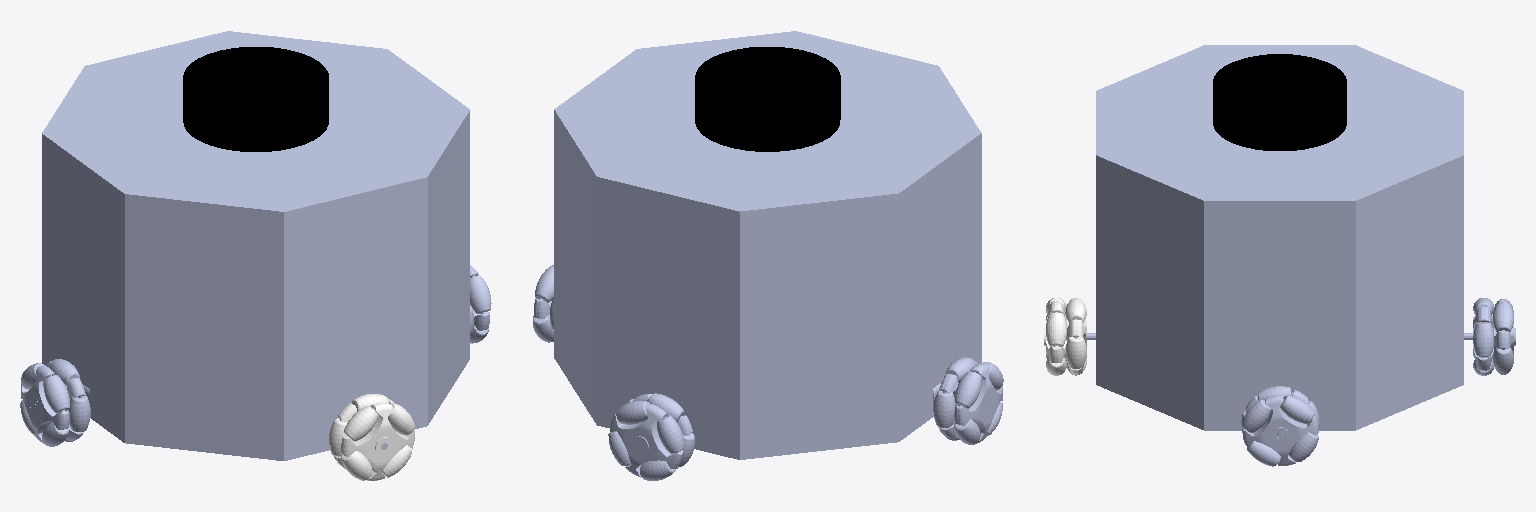
URDF robot description (RobotROS):
<?xml version="1.0" encoding="utf-8"?>
<!-- This URDF was automatically created by SolidWorks to URDF Exporter! Originally created by Stephen Brawner (brawner@gmail.com) 
     Commit Version: 1.6.0-4-g7f85cfe  Build Version: 1.6.7995.38578
     For more information, please see http://wiki.ros.org/sw_urdf_exporter -->
<robot
  name="RobotROS">

  <!-- Dummy root link -->
  <link name="base_footprint"/>

  <!-- Joint connecting base_footprint to base_link -->
  <joint name="base_footprint_joint" type="fixed">
    <parent link="base_footprint"/>
    <child link="base_link"/>
    <origin xyz="0 0 0.05" rpy="0 0 0"/>
  </joint>

  <link
    name="base_link">
    <inertial>
      <origin
        xyz="3.48309153209991E-06 3.60672325339095E-11 0.0280471670298833"
        rpy="0 0 0" />
      <mass
        value="0.380110289469191" />
      <inertia
        ixx="0.00128623683189621"
        ixy="-1.85011347063901E-13"
        ixz="-4.08987092760032E-12"
        iyy="0.00128623683211484"
        iyz="3.05496947183848E-13"
        izz="0.00218003078926772" />
    </inertial>
    <visual>
      <origin
        xyz="0 0 0"
        rpy="0 0 0" />
      <geometry>
        <mesh
          filename="package://robot_ros/meshes/base_link2.dae"  scale="1 1 1" />
      </geometry>
      <material
        name="">
        <color
          rgba="0.792156862745098 0.819607843137255 0.933333333333333 1" />
      </material>
    </visual>
    <collision>
      <origin
        xyz="0 0 0"
        rpy="0 0 0" />
      <geometry>
        <mesh
          filename="package://robot_ros/meshes/base_link2.dae"  scale="1 1 1" />
      </geometry>
    </collision>
  </link>
  <link
    name="back_wheel">
    <inertial>
      <origin
        xyz="-1.7554E-09 -4.8902E-09 0.0092664"
        rpy="0 0 0" />
      <mass
        value="0.012622" />
      <inertia
        ixx="1.1768E-06"
        ixy="-3.1606E-14"
        ixz="2.0572E-13"
        iyy="1.1768E-06"
        iyz="-7.3844E-14"
        izz="1.7117E-06" />
    </inertial>
    <visual>
      <origin
        xyz="0 0 0"
        rpy="0 0 0" />
      <geometry>
        <mesh
          filename="package://robot_ros/meshes/back_wheel.dae"  scale="1 1 1" />
      </geometry>
      <material
        name="">
        <color
          rgba="0.79216 0.81961 0.93333 1" />
      </material>
    </visual>
    <collision>
      <origin
        xyz="0 0 0"
        rpy="0 0 0" />
      <geometry>
        <mesh
          filename="package://robot_ros/meshes/back_wheel.dae"  scale="1 1 1" />
      </geometry>
    </collision>
  </link>
  <joint
    name="backwheel"
    type="continuous">
    <origin
      xyz="-0.105 -0.00025 0.005"
      rpy="-1.5708 0 -1.5708" />
    <parent
      link="base_link" />
    <child
      link="back_wheel" />
    <axis
      xyz="0 0 -1" />
    <limit
      effort="10"
      velocity="10" />
    <dynamics
      damping="0.1"
      friction="0.1" />
  </joint>
  <transmission name="backwheel_trans">
    <type>transmission_interface/SimpleTransmission</type>
    <joint name="backwheel">
      <hardwareInterface>hardware_interface/VelocityJointInterface</hardwareInterface>
    </joint>
    <actuator name="motor_back">
      <hardwareInterface>hardware_interface/VelocityJointInterface</hardwareInterface>
      <mechanicalReduction>1</mechanicalReduction>
    </actuator>
  </transmission>

  <link
    name="right_wheel">
    <inertial>
      <origin
        xyz="-5.1917E-09 -2.9353E-09 -0.0097336"
        rpy="0 0 0" />
      <mass
        value="0.012622" />
      <inertia
        ixx="1.1768E-06"
        ixy="1.518E-14"
        ixz="3.441E-13"
        iyy="1.1768E-06"
        iyz="-6.0386E-14"
        izz="1.7117E-06" />
    </inertial>
    <visual>
      <origin
        xyz="0 0 0"
        rpy="0 0 0" />
      <geometry>
        <mesh
          filename="package://robot_ros/meshes/right_wheel.dae"  scale="1 1 1"/>
      </geometry>
      <material
        name="">
        <color
          rgba="0.79216 0.81961 0.93333 1" />
      </material>
    </visual>
    <collision>
      <origin
        xyz="0 0 0"
        rpy="0 0 0" />
      <geometry>
        <mesh
          filename="package://robot_ros/meshes/right_wheel.dae"  scale="1 1 1"/>
      </geometry>
    </collision>
  </link>
  <joint
    name="rightwheel"
    type="continuous">
    <origin
      xyz="0.00025 0.105 0.005"
      rpy="-1.5708 0 0" />
    <parent
      link="base_link" />
    <child
      link="right_wheel" />
    <axis
      xyz="0 0 1" />
    <limit
      effort="10"
      velocity="10" />
    <dynamics
      damping="0.1"
      friction="0.1" />
  </joint>
  <transmission name="rightwheel_trans">
    <type>transmission_interface/SimpleTransmission</type>
    <joint name="rightwheel">
      <hardwareInterface>hardware_interface/VelocityJointInterface</hardwareInterface>
    </joint>
    <actuator name="motor_right">
      <hardwareInterface>hardware_interface/VelocityJointInterface</hardwareInterface>
      <mechanicalReduction>1</mechanicalReduction>
    </actuator>
  </transmission>

  <link
    name="front_wheel">
    <inertial>
      <origin
        xyz="-4.1812E-09 -2.6849E-09 -0.0097336"
        rpy="0 0 0" />
      <mass
        value="0.012622" />
      <inertia
        ixx="1.1768E-06"
        ixy="-3.2363E-14"
        ixz="1.0854E-13"
        iyy="1.1768E-06"
        iyz="-1.6904E-13"
        izz="1.7117E-06" />
    </inertial>
    <visual>
      <origin
        xyz="0 0 0"
        rpy="0 0 0" />
      <geometry>
        <mesh
          filename="package://robot_ros/meshes/front_wheel.dae"  scale="1 1 1" />
      </geometry>
      <material
        name="">
        <color
          rgba="0.79216 0.81961 0.93333 1" />
      </material>
    </visual>
    <collision>
      <origin
        xyz="0 0 0"
        rpy="0 0 0" />
      <geometry>
        <mesh
          filename="package://robot_ros/meshes/front_wheel.dae"  scale="1 1 1" />
      </geometry>
    </collision>
  </link>
  <joint
    name="frontwheel"
    type="continuous">
    <origin
      xyz="0.105 0.00025 0.005"
      rpy="-1.5708 0 -1.5708" />
    <parent
      link="base_link" />
    <child
      link="front_wheel" />
    <axis
      xyz="0 0 1" />
    <limit
      effort="10"
      velocity="10" />
    <dynamics
      damping="0.1"
      friction="0.1" />
  </joint>
  <transmission name="frontwheel_trans">
    <type>transmission_interface/SimpleTransmission</type>
    <joint name="frontwheel">
      <hardwareInterface>hardware_interface/VelocityJointInterface</hardwareInterface>
    </joint>
    <actuator name="motor_front">
      <hardwareInterface>hardware_interface/VelocityJointInterface</hardwareInterface>
      <mechanicalReduction>1</mechanicalReduction>
    </actuator>
  </transmission>

  <link
    name="left_wheel">
    <inertial>
      <origin
        xyz="0 0 0"
        rpy="0 0 0" />
      <mass
        value="0.012622" />
      <inertia
        ixx="1.1768E-06"
        ixy="-3.2363E-14"
        ixz="1.0854E-13"
        iyy="1.1768E-06"
        iyz="-1.6904E-13"
        izz="1.7117E-06" />
    </inertial>
    <visual>
      <origin
        xyz="0 0 0"
        rpy="0 0 0" />
      <geometry>
        <mesh
          filename="package://robot_ros/meshes/left_wheel.dae"  scale="1 1 1" />
      </geometry>
      <material
        name="">
        <color
          rgba="1 1 1 1" />
      </material>
    </visual>
    <collision>
      <origin
        xyz="0 0 0"
        rpy="0 0 0" />
      <geometry>
        <mesh
          filename="package://robot_ros/meshes/left_wheel.dae"  scale="1 1 1" />
      </geometry>
    </collision>
  </link>
  <joint
    name="leftwheel"
    type="continuous">
    <origin
      xyz="0.00025 -0.105 0.005"
      rpy="-1.5708 0 0" />
    <parent
      link="base_link" />
    <child
      link="left_wheel" />
    <axis
      xyz="0 0 -1" />
    <limit
      effort="10"
      velocity="10" />
    <dynamics
      damping="0.1"
      friction="0.1" />
  </joint>
  <transmission name="leftwheel_trans">
    <type>transmission_interface/SimpleTransmission</type>
    <joint name="leftwheel">
      <hardwareInterface>hardware_interface/VelocityJointInterface</hardwareInterface>
    </joint>
    <actuator name="motor_left">
      <hardwareInterface>hardware_interface/VelocityJointInterface</hardwareInterface>
      <mechanicalReduction>1</mechanicalReduction>
    </actuator>
  </transmission>

  <gazebo>
    <plugin name="gazebo_ros_control" filename="libgazebo_ros_control.so">
      <robotNamespace>/</robotNamespace>
    </plugin>
  </gazebo>

  <!-- LiDAR Sensor -->
  <link name="lidar_link">
    <inertial>
      <origin xyz="0 0 0.05" rpy="0 0 0" />
      <mass value="0.1" />
      <inertia
        ixx="0.0001" ixy="0.0" ixz="0.0"
        iyy="0.0001" iyz="0.0"
        izz="0.0001" />
    </inertial>
    <visual>
      <origin xyz="0 0 0" rpy="0 0 0"/>
      <geometry>
        <cylinder radius="0.03" length="0.02"/>
      </geometry>
      <material name="black">
        <color rgba="0.0 0.0 0.0 1.0"/>
      </material>
    </visual>
    <collision>
      <origin xyz="0 0 0" rpy="0 0 0"/>
      <geometry>
        <cylinder radius="0.03" length="0.05"/>
      </geometry>
    </collision>
  </link>

  <gazebo reference="lidar_link">
    <sensor type="ray" name="laser">
      <pose>0 0 0 0 0 0</pose>
      <update_rate>10</update_rate>
      <ray>
        <scan>
          <horizontal>
            <samples>720</samples>
            <resolution>1</resolution>
            <min_angle>-1.5708</min_angle>
            <max_angle>1.5708</max_angle>
          </horizontal>
        </scan>
        <range>
          <min>0.1</min>
          <max>10.0</max>
          <resolution>0.01</resolution>
        </range>
        <noise>
          <type>gaussian</type>
          <mean>0.0</mean>
          <stddev>0.01</stddev>
        </noise>
      </ray>
      <plugin name="gazebo_ros_laser_controller" filename="libgazebo_ros_laser.so">
        <topicName>scan</topicName>
        <frameName>lidar_link</frameName>      
        <robotNamespace>/</robotNamespace>
        <updateRate>10.0</updateRate>
        <alwaysOn>true</alwaysOn>
      </plugin>
    </sensor>
  </gazebo>

  <!-- Fixed joint from base_link to lidar -->
  <joint name="lidar_joint" type="fixed">
    <parent link="base_link"/>
    <child link="lidar_link"/>
    <origin xyz="0 0 0.12" rpy="0 0 0"/>
  </joint>



</robot>

--- Render facts (derived) ---
The picture shows the robot from 3 angles, left to right: view 1: azimuth 30°, elevation 25°; view 2: azimuth 150°, elevation 25°; view 3: azimuth 270°, elevation 25°; orthographic projection.
Robot: RobotROS — 7 links, 6 joints (4 continuous, 2 fixed); root link base_footprint; default pose: all joints at 0.
Links seen in each view (by area): view 1: base_link, lidar_link, left_wheel, back_wheel, front_wheel; view 2: base_link, lidar_link, right_wheel, back_wheel, front_wheel; view 3: base_link, lidar_link, front_wheel, left_wheel, right_wheel.
Boxes of the visible links, x1,y1,x2,y2 form: base_link: (33,31,469,460); lidar_link: (183,47,328,151); left_wheel: (329,394,414,480); back_wheel: (20,359,90,446); front_wheel: (470,265,491,343); base_link: (554,31,990,459); lidar_link: (695,47,840,151); right_wheel: (608,393,694,480); back_wheel: (933,357,1003,444); front_wheel: (533,265,553,342); base_link: (1087,45,1472,438); lidar_link: (1213,54,1346,150); front_wheel: (1241,386,1319,466); left_wheel: (1044,298,1086,375); right_wheel: (1473,298,1515,375).
Bounding box of the posed robot: 0.21 × 0.21 × 0.1425 m (x, y, z).
5 mesh visuals loaded from 5 distinct referenced files (5 Collada DAE).
